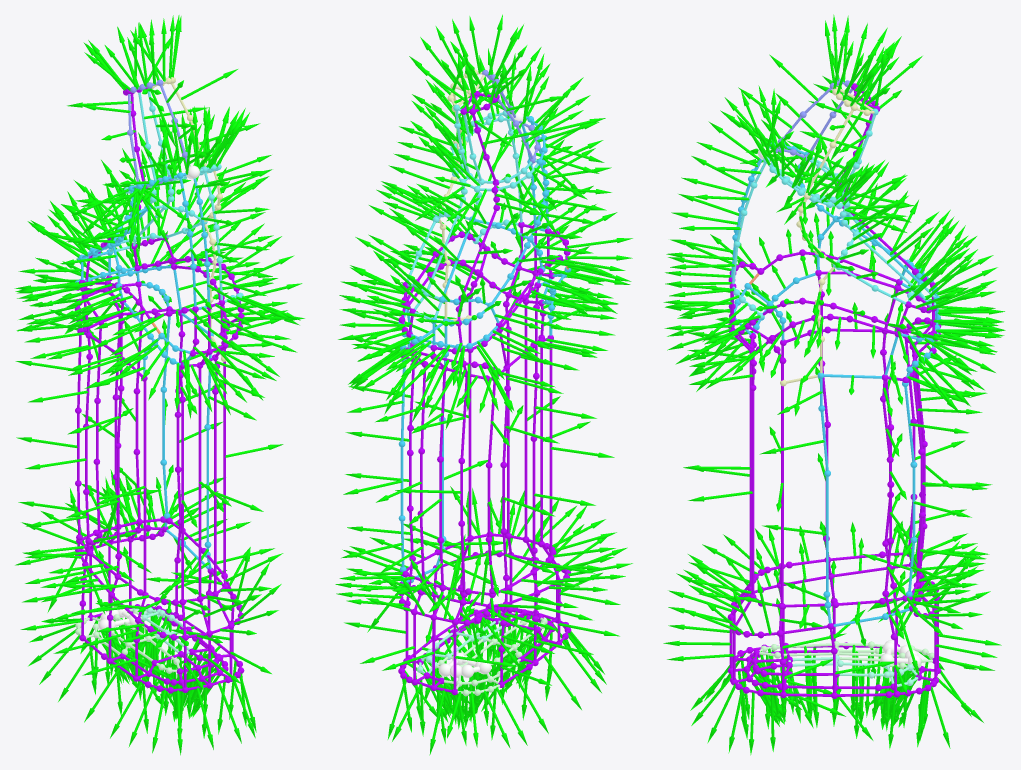
File: flowrep_bottle.gltf
3 renders of one model, left to right at view 1: azimuth 30°, elevation 25°; view 2: azimuth 150°, elevation 25°; view 3: azimuth 270°, elevation 25°, orthographic. The views are drawn at different scales.
Size of the model in its own units: 0.3678 by 1.14 by 0.5005.
